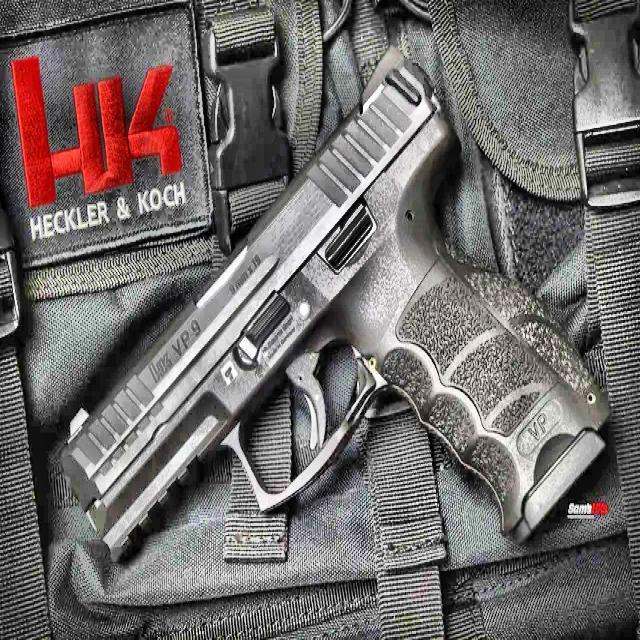HKVP9: (59, 42, 614, 564)
